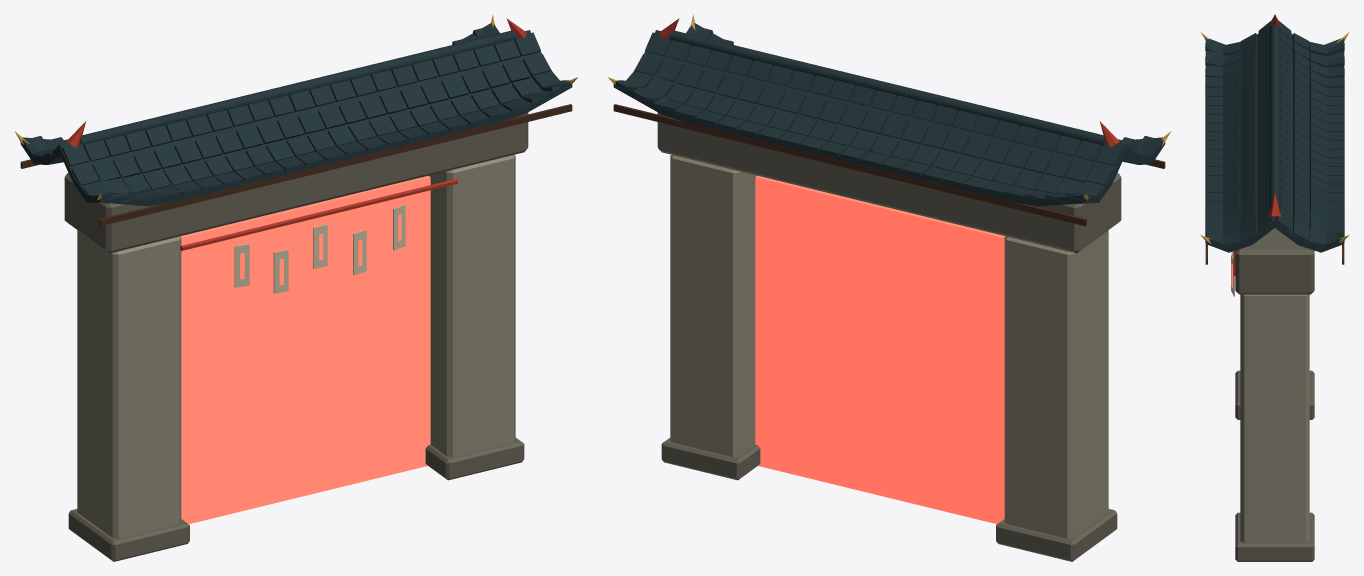
The model's file is seal_gate.glb.
The picture shows the model from 3 angles, left to right: view 1: azimuth 30°, elevation 25°; view 2: azimuth 150°, elevation 25°; view 3: azimuth 270°, elevation 25°; orthographic projection. The views are drawn at different scales.
Parts seen in each view (by area): view 1: SealGate, Barrier; view 2: SealGate, Barrier; view 3: SealGate.
Boxes of the visible parts, x1,y1,x2,y2 form: SealGate: [15, 14, 577, 561]; Barrier: [180, 175, 430, 524]; SealGate: [608, 14, 1171, 561]; Barrier: [755, 175, 1005, 524]; SealGate: [1200, 14, 1349, 561].
Size of what is drawn, in the model's own units: 9.73 by 8.3 by 3.02.
